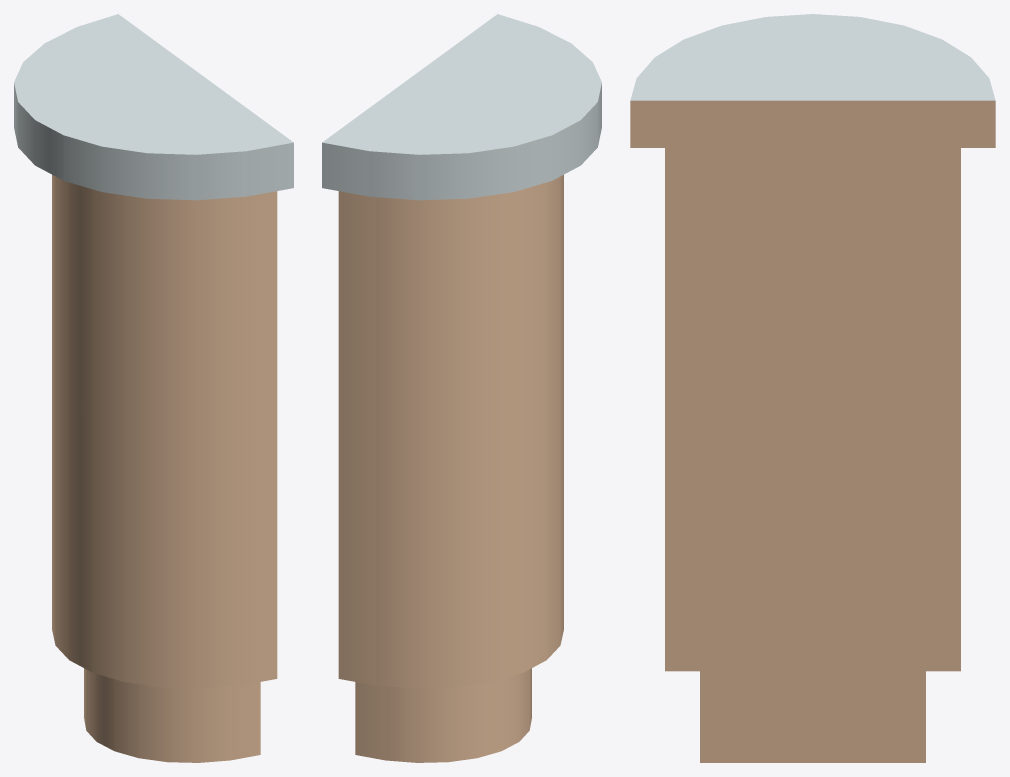
File: kitchenBarEnd-col.glb
3 views of the same model, side by side, from view 1: azimuth 30°, elevation 25°; view 2: azimuth 150°, elevation 25°; view 3: azimuth 270°, elevation 25° (orthographic). The views are drawn at different scales.
Visible parts, largest first — view 1: kitchenBarEnd-col; view 2: kitchenBarEnd-col; view 3: kitchenBarEnd-col.
Boxes of the visible parts, bbox=[...] form: kitchenBarEnd-col: bbox=[14, 14, 293, 762]; kitchenBarEnd-col: bbox=[322, 14, 601, 762]; kitchenBarEnd-col: bbox=[630, 14, 995, 762].
Size of the model in its own units: 0.1181 by 0.42 by 0.21.
